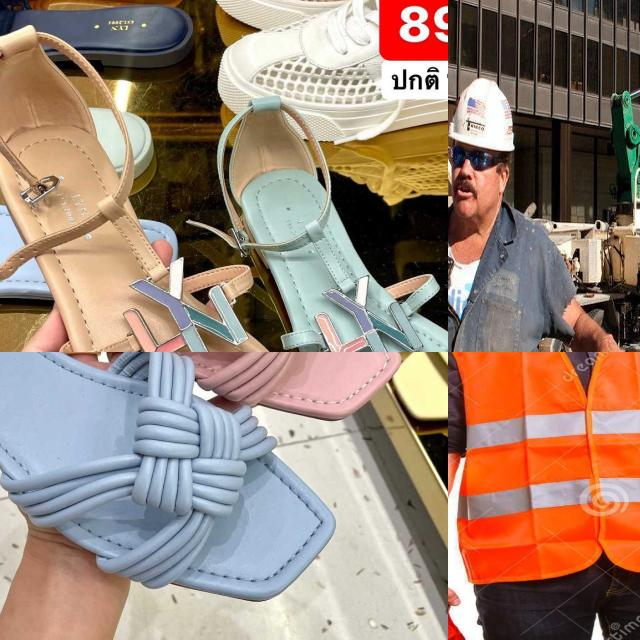No_Ear-Protection: (448, 109, 513, 225)
Sandals: (0, 13, 351, 352), (0, 352, 351, 621), (196, 71, 448, 352), (0, 352, 440, 465)
hand_noglove: (448, 560, 464, 612)
person: (448, 352, 640, 640)
vest: (448, 352, 640, 579)
